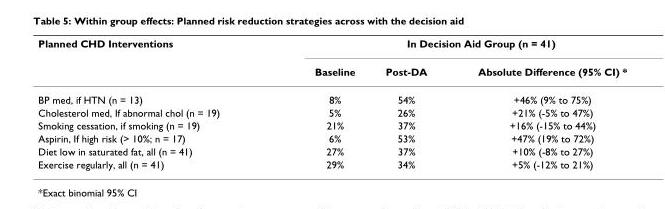table: (37, 36, 626, 169)
table column: (37, 36, 266, 169), (451, 36, 626, 169), (266, 36, 369, 169), (369, 36, 451, 169)
table column header: (37, 36, 626, 85)
table row: (37, 56, 626, 85), (37, 36, 626, 56), (37, 85, 626, 105), (37, 105, 626, 118), (37, 118, 626, 131), (37, 131, 626, 144), (37, 144, 626, 157), (37, 157, 626, 169)
table spanning cell: (37, 36, 266, 85), (266, 36, 626, 56)
